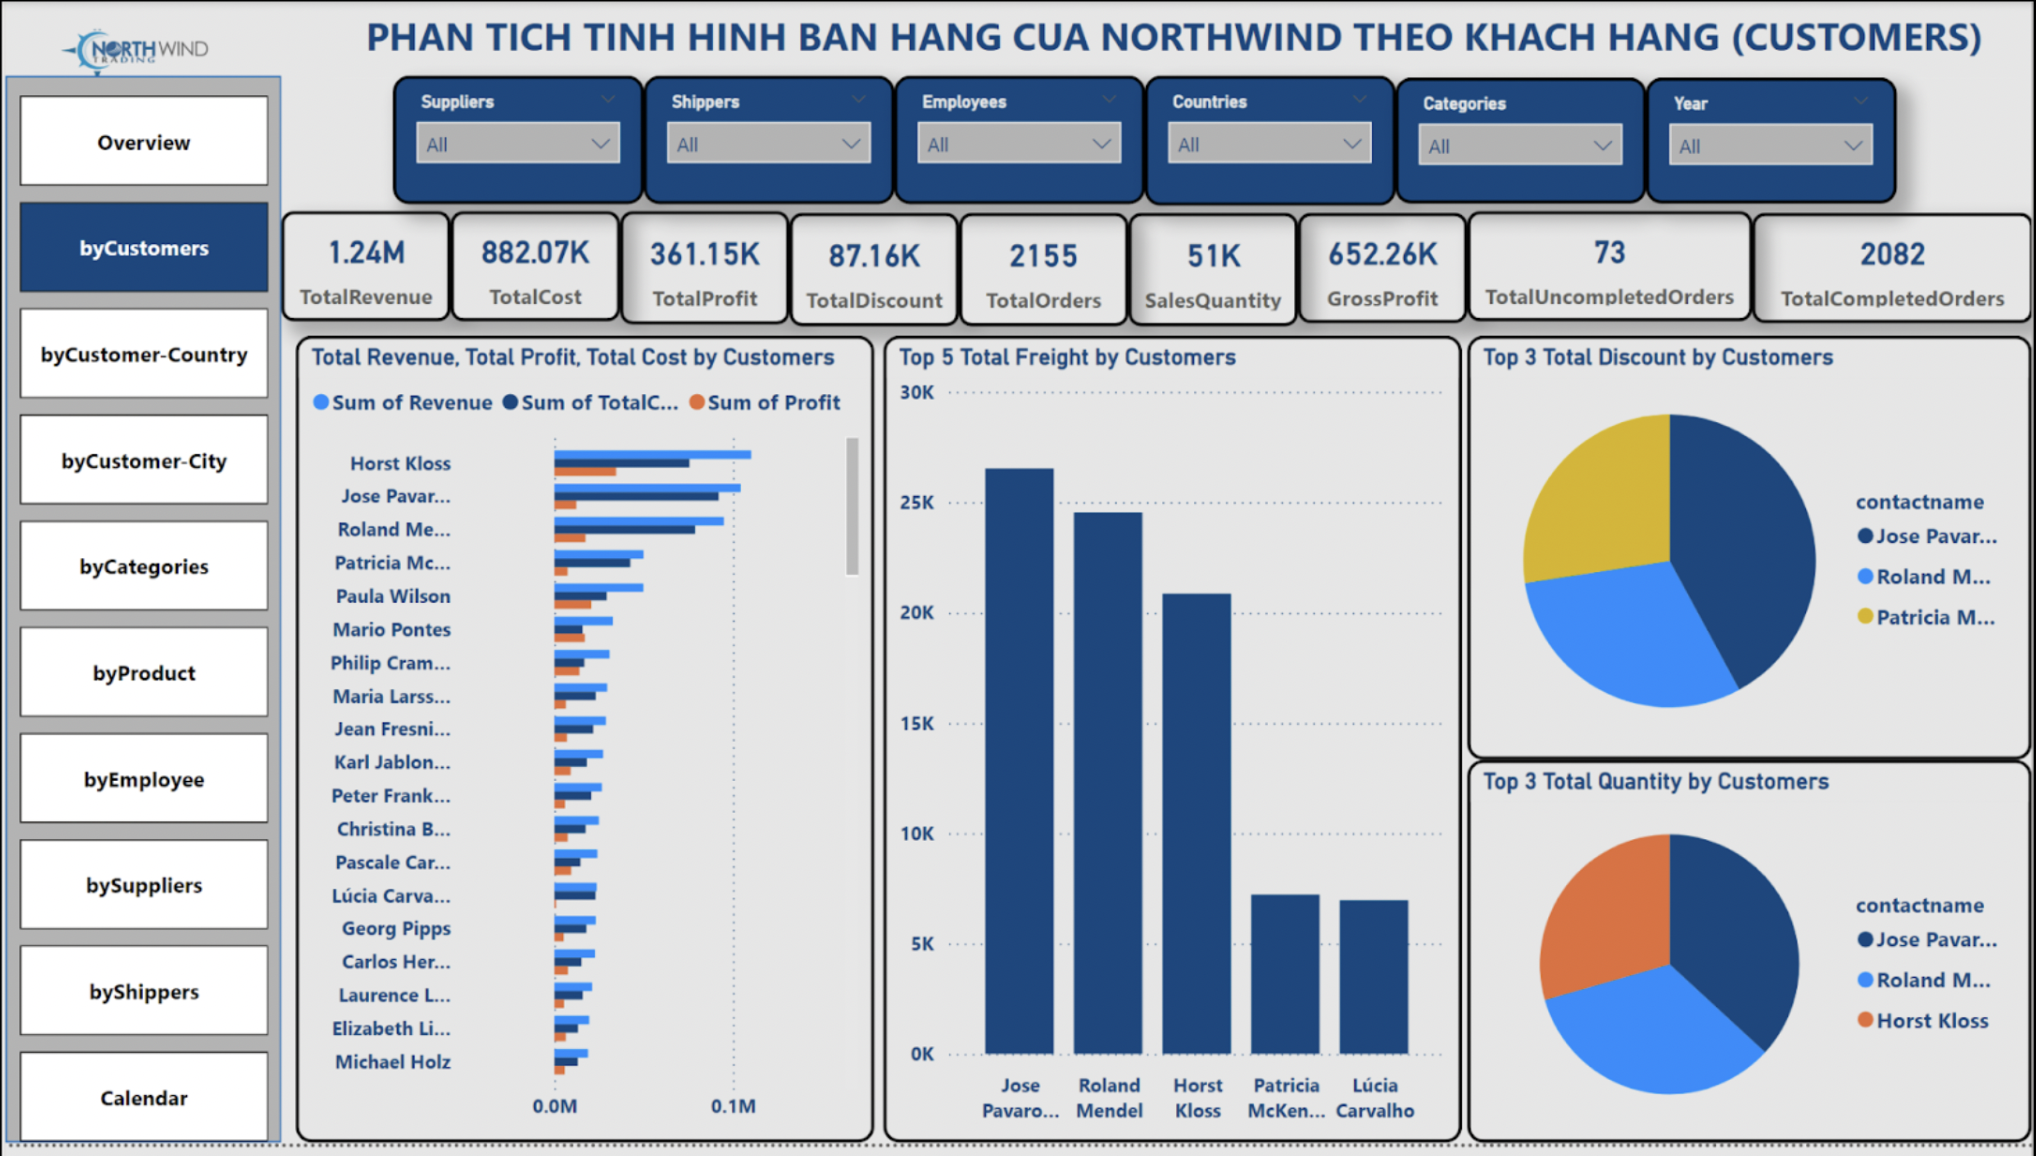

This screenshot's page, from the dashboard's own definition file:
{"tool":"powerbi","page":{"name":"byCustomers","canvas":[1280,720],"ordinal":1},"visuals":[{"type":"card","fields":{"Values":["FactOrders.TotalRevenue"]},"box":[174.2,132.1,107,69.5],"z":0},{"type":"card","fields":{"Values":["FactOrders.TotalProfit"]},"box":[388.3,132.1,107,71.7],"z":1000},{"type":"card","fields":{"Values":["Sum(FactOrders.TotalCost)"]},"box":[281.3,132.1,107,69.5],"z":2000},{"type":"card","fields":{"Values":["FactOrders.TotalDiscount"]},"box":[495.4,133.2,107,71.7],"z":3000},{"type":"card","fields":{"Values":["FactOrders.GrossProfit"]},"box":[816.5,133.2,107,69.5],"z":4000},{"type":"card","fields":{"Values":["Sum(FactOrders.Quantity)"]},"box":[709.5,133.2,107,71.7],"z":5000},{"type":"card","fields":{"Values":["FactOrders.TotalCompletedOrders"]},"box":[1103.5,133.2,177.7,69.5],"z":6000},{"type":"card","fields":{"Values":["FactOrders.TotalUncompletedOrders"]},"box":[923.6,132.1,179.9,69.5],"z":7000},{"type":"clusteredBarChart","title":"Total Revenue, Total Profit, Total Cost by Customers","fields":{"Category":["customers.contactname"],"Y":["Sum(FactOrders.Revenue)","Sum(FactOrders.TotalCost)","Sum(FactOrders.Profit)"]},"box":[183.3,210.7,365.6,509],"z":8000},{"type":"textbox","box":[206.1,0,1064.8,47.8],"z":9000},{"type":"card","fields":{"Values":["CountNonNull(FactOrders.OrderID)"]},"box":[602.4,133.2,107,71.7],"z":10000},{"type":"image","box":[10,10,157.2,47.8],"z":11000},{"type":"shape","box":[0,46.7,174.2,673],"z":12000},{"type":"pageNavigator","box":[9.1,59.2,157.2,660.5],"z":13000},{"type":"slicer","title":"Total Profit by Employees","fields":{"Values":["employees.fullname"]},"box":[244.3,47.3,158.3,80.9],"z":14000},{"type":"slicer","title":"Total Profit by Employees","fields":{"Values":["suppliers.companyname"]},"box":[402.6,47.3,158.3,80.9],"z":15000},{"type":"slicer","title":"Total Profit by Employees","fields":{"Values":["employees.fullname"]},"box":[560.9,47.3,158.3,80.9],"z":16000},{"type":"slicer","title":"Total Profit by Employees","fields":{"Values":["customers.contactname"]},"box":[719.1,47.3,158.3,82],"z":17000},{"type":"slicer","title":"Total Profit by Employees","fields":{"Values":["categories.categoryname"]},"box":[877.4,48.4,158.3,79.7],"z":18000},{"type":"slicer","title":"Total Profit by Employees","fields":{"Values":["shippers.companyname"]},"box":[1035.7,48.4,158.3,79.7],"z":19000},{"type":"pieChart","title":"Top 3 Total Discount  by Customers","fields":{"Category":["customers.contactname"],"Y":["Sum(FactOrders.Discount)"]},"box":[923.6,210.7,356.4,267.6],"z":20000},{"type":"pieChart","title":"Top 3 Total Quantity  by Customers","fields":{"Category":["customers.contactname"],"Y":["Sum(FactOrders.Quantity)"]},"box":[923.6,478.3,356.4,241.4],"z":21000},{"type":"clusteredColumnChart","title":"Top 5 Total Freight by Customers","fields":{"Category":["customers.contactname"],"Y":["Sum(FactOrders.Freight)"]},"box":[554.6,210.7,365.6,509],"z":22000}]}

Visuals, with their boxes in screenshot pixels (x1, y1, x2, y2), scaled from the page's 1280x720 canvas onto the 2036x1156 screenshot:
card - FactOrders.TotalRevenue: (left=277, top=212, right=447, bottom=324)
card - FactOrders.TotalProfit: (left=618, top=212, right=788, bottom=327)
card - Sum(FactOrders.TotalCost): (left=447, top=212, right=618, bottom=324)
card - FactOrders.TotalDiscount: (left=788, top=214, right=958, bottom=329)
card - FactOrders.GrossProfit: (left=1299, top=214, right=1469, bottom=325)
card - Sum(FactOrders.Quantity): (left=1129, top=214, right=1299, bottom=329)
card - FactOrders.TotalCompletedOrders: (left=1755, top=214, right=2035, bottom=325)
card - FactOrders.TotalUncompletedOrders: (left=1469, top=212, right=1755, bottom=324)
"Total Revenue, Total Profit, Total Cost by Customers" clusteredBarChart: (left=292, top=338, right=873, bottom=1155)
textbox: (left=328, top=0, right=2022, bottom=77)
card - CountNonNull(FactOrders.OrderID): (left=958, top=214, right=1128, bottom=329)
image: (left=16, top=16, right=266, bottom=93)
shape: (left=0, top=75, right=277, bottom=1155)
pageNavigator: (left=14, top=95, right=265, bottom=1155)
"Total Profit by Employees" slicer: (left=389, top=76, right=640, bottom=206)
"Total Profit by Employees" slicer: (left=640, top=76, right=892, bottom=206)
"Total Profit by Employees" slicer: (left=892, top=76, right=1144, bottom=206)
"Total Profit by Employees" slicer: (left=1144, top=76, right=1396, bottom=208)
"Total Profit by Employees" slicer: (left=1396, top=78, right=1647, bottom=206)
"Total Profit by Employees" slicer: (left=1647, top=78, right=1899, bottom=206)
"Top 3 Total Discount  by Customers" pieChart: (left=1469, top=338, right=2035, bottom=768)
"Top 3 Total Quantity  by Customers" pieChart: (left=1469, top=768, right=2035, bottom=1155)
"Top 5 Total Freight by Customers" clusteredColumnChart: (left=882, top=338, right=1464, bottom=1155)
